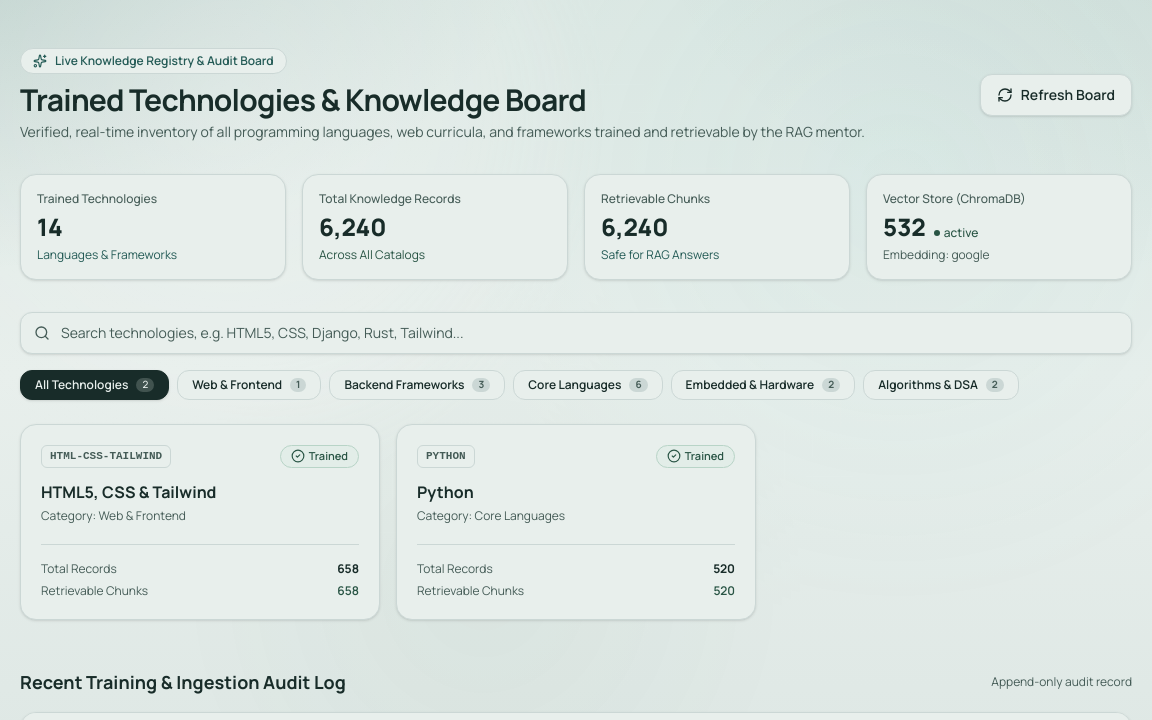
Test: TrainingRegistryPage (Tech Board) › filters technologies by category and search query
Check: the heading "HTML5, CSS & Tailwind" is shown, box [41, 480, 216, 502]
Note: Search for Python
Replace the text in the field with placeholder "Search technologies" with "python". click: (576, 333)
box: [20, 312, 1132, 354]
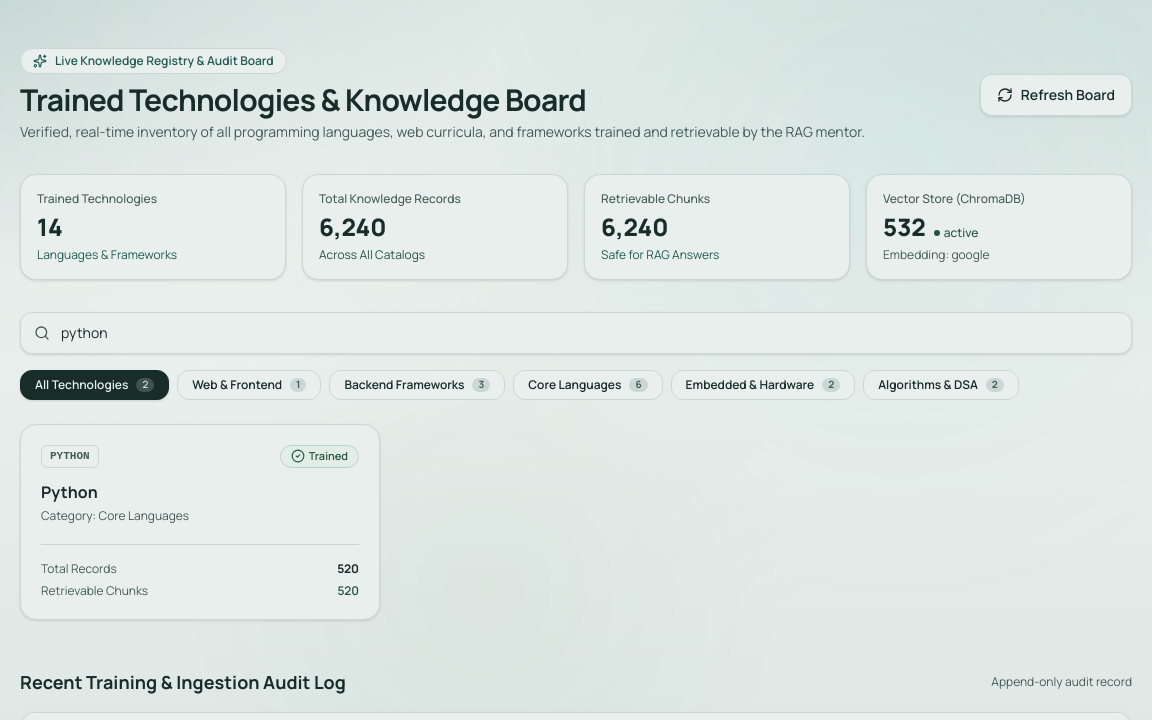
Check: the heading "Python" is shown, box [41, 480, 98, 502]
Check: the heading "HTML5, CSS & Tailwind" is gone
Note: Clear search and click Web & Frontend category pill
Clear the field with placeholder "Search technologies". click: (576, 333)
box: [20, 312, 1132, 354]
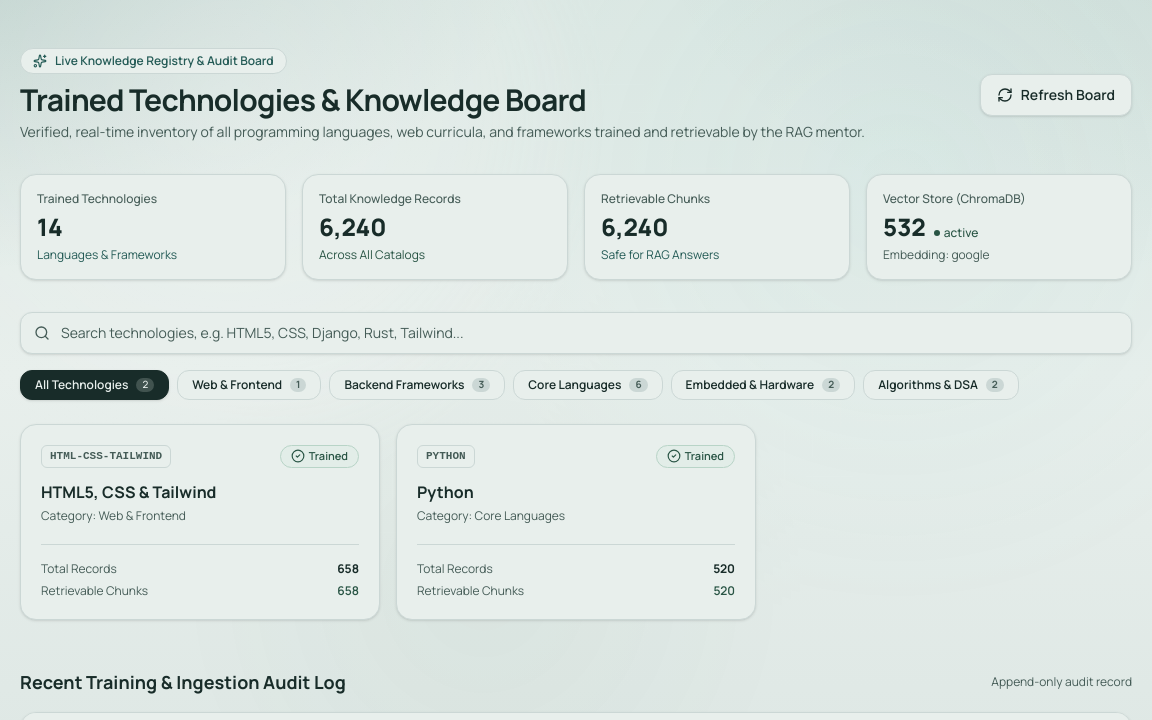
Click the button "Web & Frontend 1". click: (249, 385)
box: [177, 370, 322, 400]
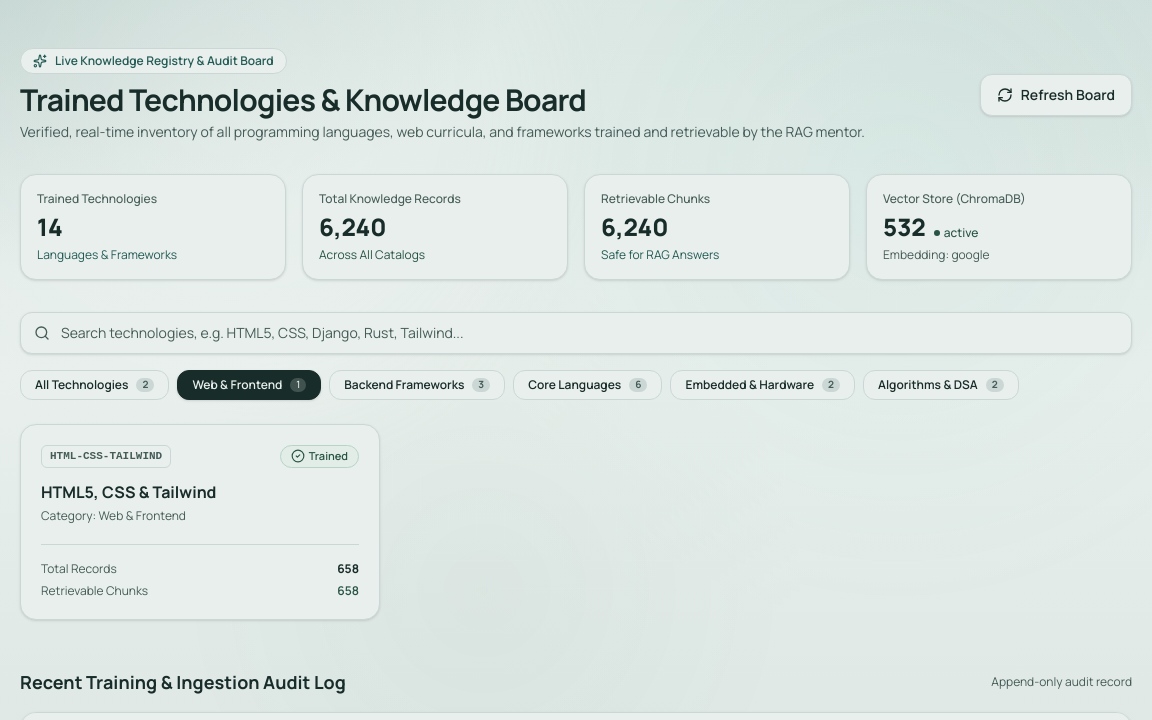
Check: the heading "HTML5, CSS & Tailwind" is shown, box [41, 480, 216, 502]
Check: the text "python" is gone
